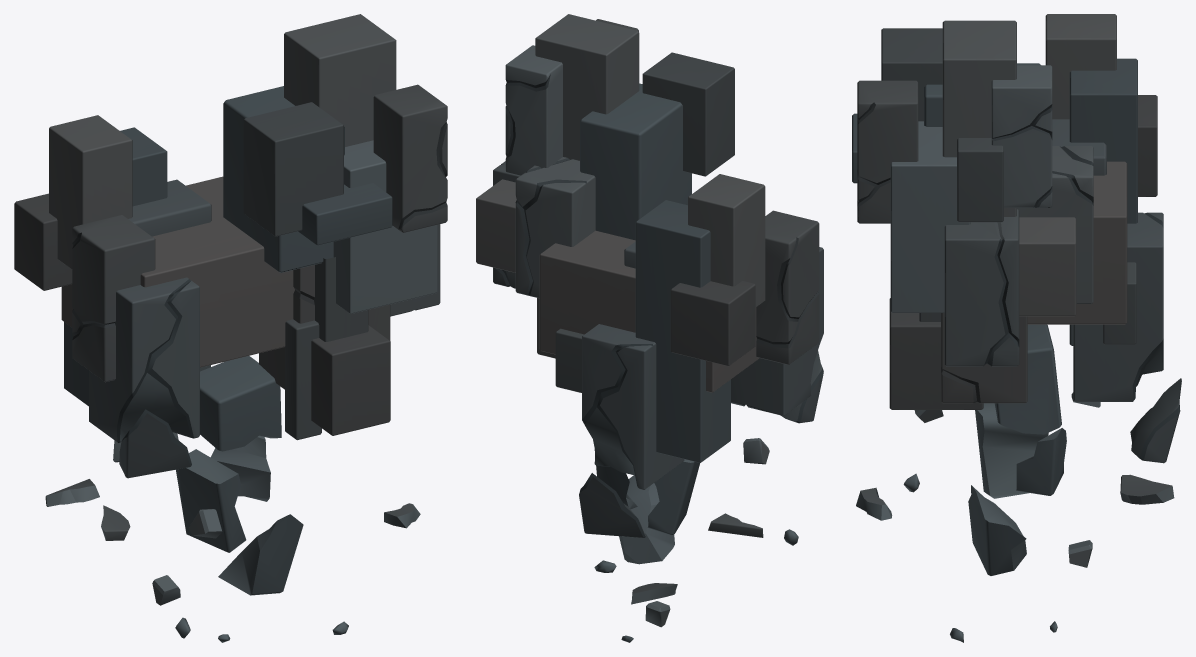
File: ruins_002.glb
3 renders of one model, left to right at view 1: azimuth 30°, elevation 25°; view 2: azimuth 150°, elevation 25°; view 3: azimuth 270°, elevation 25°, orthographic. The views are drawn at different scales.
Visible parts, largest first — view 1: ruins_002; view 2: ruins_002; view 3: ruins_002.
Boxes of the visible parts, <box> form: ruins_002: <box>14,14,447,642</box>; ruins_002: <box>476,14,823,642</box>; ruins_002: <box>852,14,1181,642</box>.
Bounding box in the file's own units: 33.57 × 59.99 × 28.39.
1 material, 1 textured.
